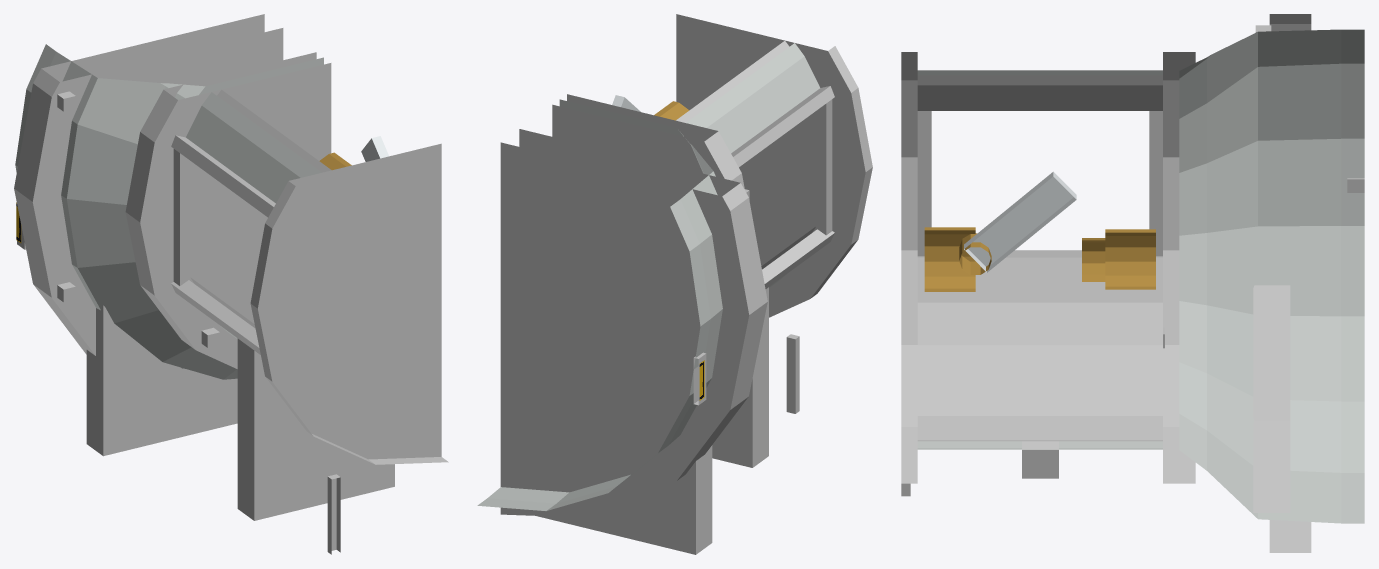
File: cell_36.obj
3 views of the same model, side by side, from view 1: azimuth 30°, elevation 25°; view 2: azimuth 150°, elevation 25°; view 3: azimuth 270°, elevation 25° (orthographic). The views are drawn at different scales.
Bounding box in the file's own units: 0.695 × 1 × 1.
